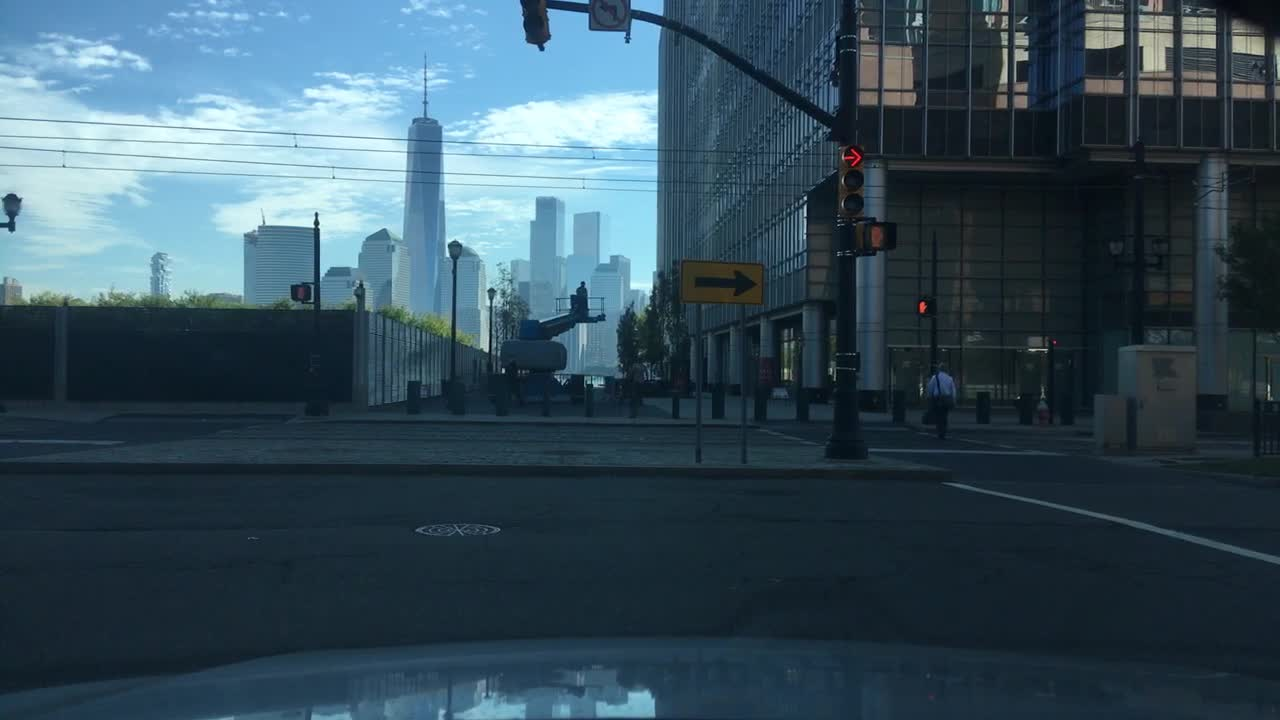car: (501, 294, 603, 405)
person: (920, 363, 955, 444), (1015, 358, 1041, 424), (624, 357, 645, 416), (501, 354, 521, 404), (573, 280, 591, 315)
traffic light: (835, 145, 865, 224), (516, 0, 553, 43), (857, 220, 896, 253), (914, 297, 938, 317), (287, 284, 311, 300), (1050, 339, 1060, 348)
traffic sign: (681, 260, 767, 304), (586, 0, 628, 33), (1108, 239, 1128, 256)
